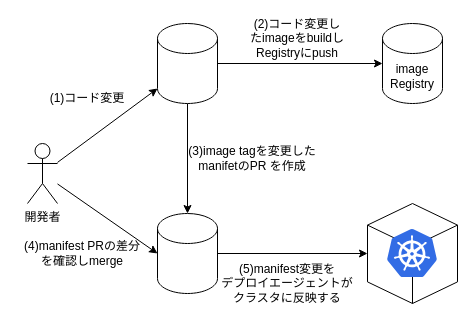
Some shapes in this 475 by 322 pixel diagram are drawn without their labels. The box of each missing label's shape, as (x1, y1, x2, y2) in pixels:
App Repo: (156, 22, 218, 104)
manifest Repo: (156, 212, 218, 294)
